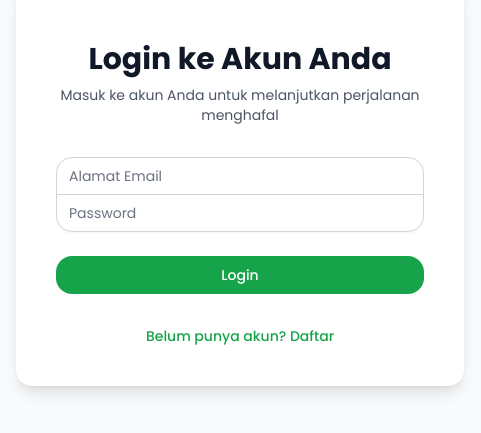
Login Page › toggles to registration form and back
The image size is (481, 433).
Click the button "Belum punya akun? Daftar": point(240, 336) [146, 326, 334, 346]
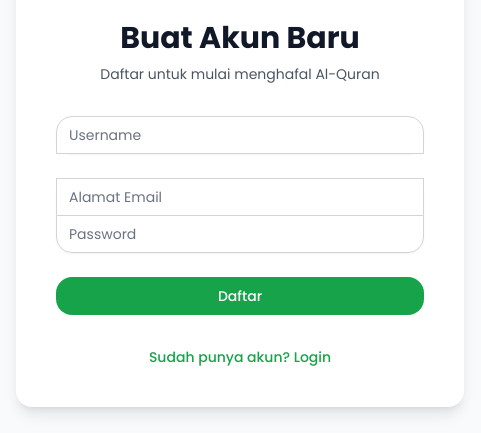
Result: the heading "Buat Akun Baru" is shown at [120, 16, 360, 58]
Result: the field with placeholder "Username" is shown at [56, 116, 424, 154]
Result: the button "Daftar" is shown at [56, 276, 424, 314]
Click the button "Sudah punya akun? Login": point(240, 356) [149, 346, 331, 366]
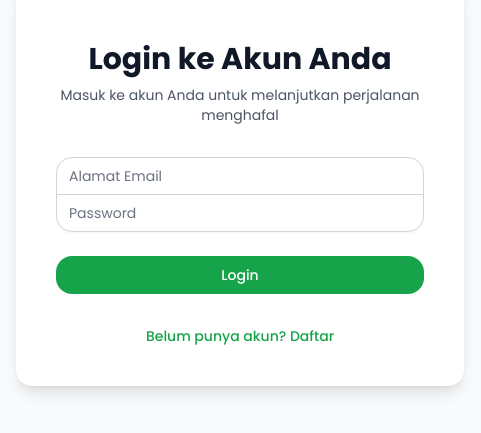
Result: the heading "Login ke Akun Anda" is shown at [88, 38, 392, 80]
